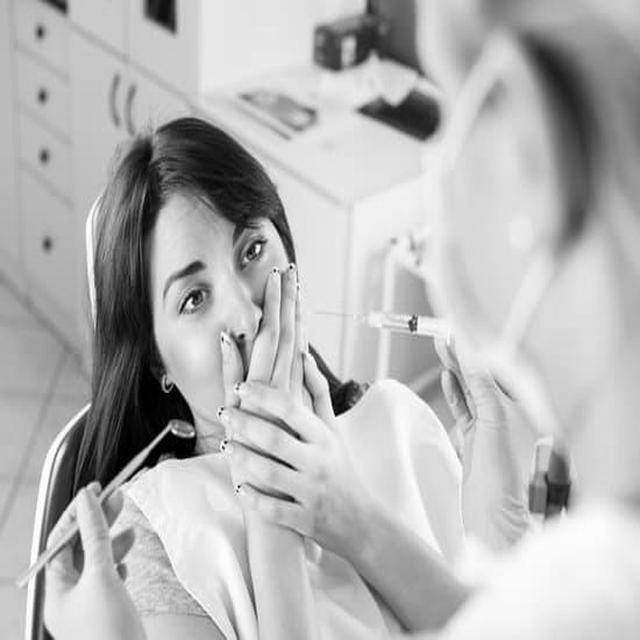Fear: (157, 209, 288, 417)
